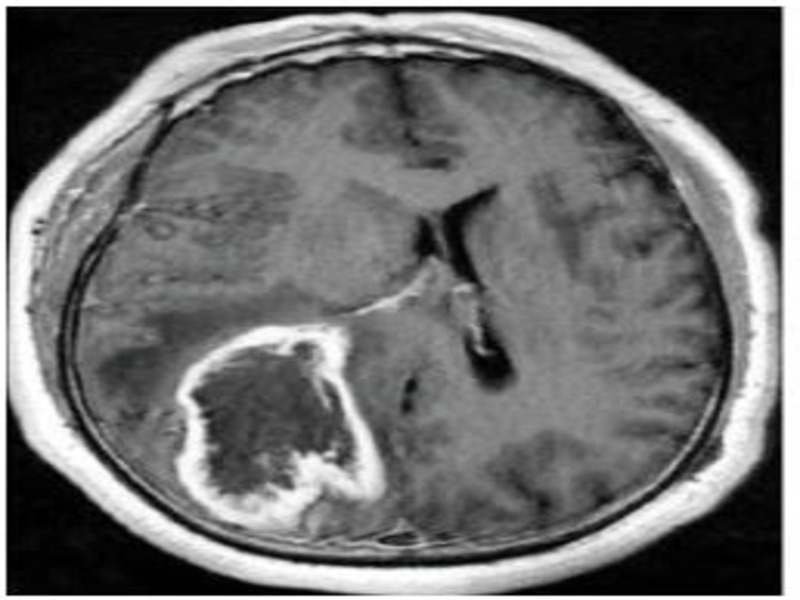tumor: (164, 319, 393, 536)
